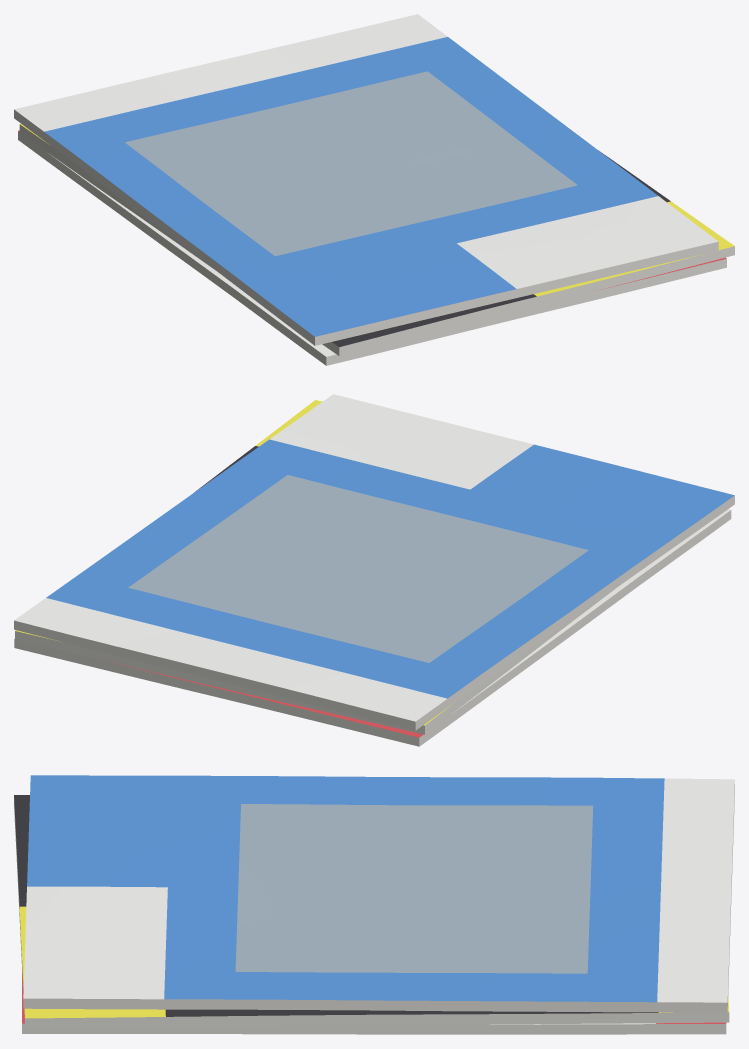
Rendered from paper_magazines_tidy.fbx.
3 renders of one model, top to bottom at view 1: azimuth 30°, elevation 25°; view 2: azimuth 150°, elevation 25°; view 3: azimuth 270°, elevation 25°, orthographic. The views are drawn at different scales.
Parts seen in each view (by area): view 1: paper_magazines_tidy; view 2: paper_magazines_tidy; view 3: paper_magazines_tidy.
Part boxes in pixels (x1,y1,x2,y2): paper_magazines_tidy: (14,14,734,365); paper_magazines_tidy: (14,394,734,746); paper_magazines_tidy: (14,775,734,1034).
Bounding box in the file's own units: 0.2189 × 0.0145 × 0.2866.
